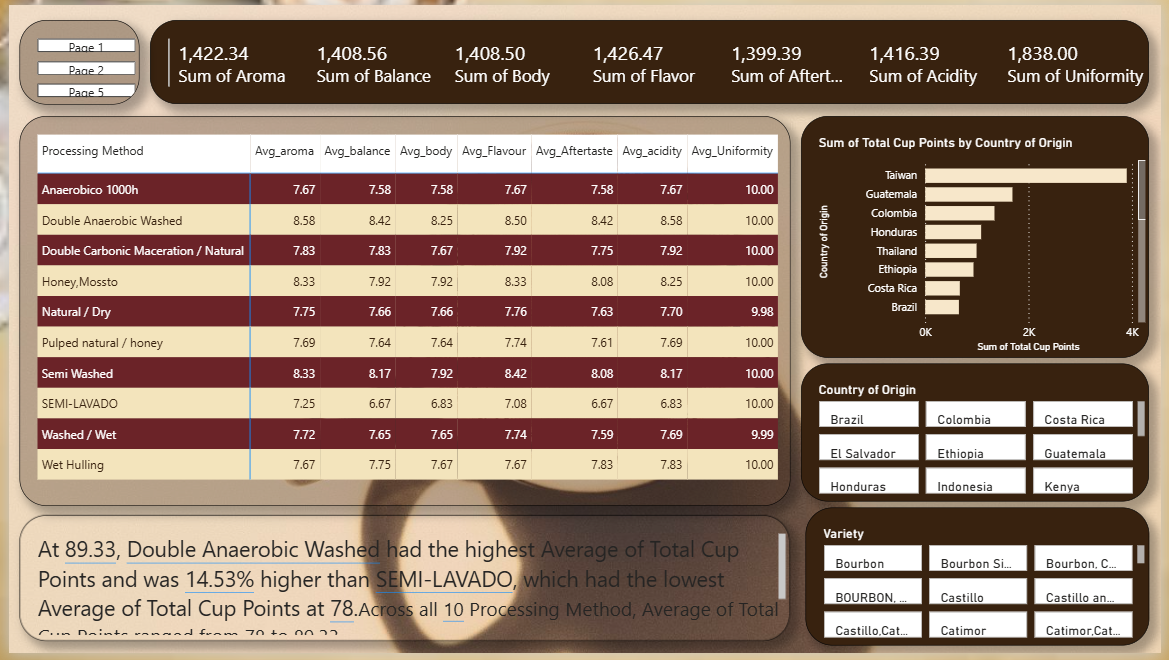

The page's visual inventory and layout, read from the dashboard file:
{"tool":"powerbi","page":{"name":"Page 3","canvas":[1280,720],"ordinal":2},"visuals":[{"type":"multiRowCard","fields":{"Values":["Sum(df_arabica_clean csv.Aroma)","Sum(df_arabica_clean csv.Balance)","Sum(df_arabica_clean csv.Body)","Sum(df_arabica_clean csv.Flavor)","Sum(df_arabica_clean csv.Aftertaste)","Sum(df_arabica_clean csv.Acidity)","Sum(df_arabica_clean csv.Uniformity)"]},"box":[156.7,16.7,1110,93.3],"z":0},{"type":"pageNavigator","box":[11.1,15.9,133.6,93.8],"z":1000},{"type":"pivotTable","fields":{"Rows":["df_arabica_clean csv.Processing Method"],"Values":["df_arabica_clean csv.Avg_aroma","df_arabica_clean csv.Avg_balance","df_arabica_clean csv.Avg_body","df_arabica_clean csv.Avg_Flavour","df_arabica_clean csv.Avg_Aftertaste","df_arabica_clean csv.Avg_acidity","df_arabica_clean csv.Avg_Uniformity"]},"box":[11.7,123.3,856.7,433.3],"z":2000},{"type":"barChart","fields":{"Y":["Sum(df_arabica_clean csv.Total Cup Points)"],"Category":["df_arabica_clean csv.Country of Origin"]},"box":[880,123.3,386.7,268.3],"z":3000},{"type":"advancedSlicerVisual","fields":{"Values":["df_arabica_clean csv.Country of Origin"]},"box":[880,398,386.7,153.3],"z":4000},{"type":"advancedSlicerVisual","fields":{"Values":["df_arabica_clean csv.Variety"]},"box":[885,559,381.7,153.3],"z":5000},{"type":"textbox","box":[11.1,566.3,855.7,140],"z":6000}]}

Visuals, with their boxes in screenshot pixels (x1, y1, x2, y2), scaled from the page's 1280x720 canvas onto the 1169x660 screenshot:
multiRowCard - Sum(df_arabica_clean csv.Aroma) x Sum(df_arabica_clean csv.Balance): l=143, t=15, r=1157, b=101
pageNavigator: l=10, t=15, r=132, b=101
pivotTable - df_arabica_clean csv.Processing Method x df_arabica_clean csv.Avg_aroma: l=11, t=113, r=793, b=510
barChart - Sum(df_arabica_clean csv.Total Cup Points) x df_arabica_clean csv.Country of Origin: l=804, t=113, r=1157, b=359
advancedSlicerVisual - df_arabica_clean csv.Country of Origin: l=804, t=365, r=1157, b=505
advancedSlicerVisual - df_arabica_clean csv.Variety: l=808, t=512, r=1157, b=653
textbox: l=10, t=519, r=792, b=647
